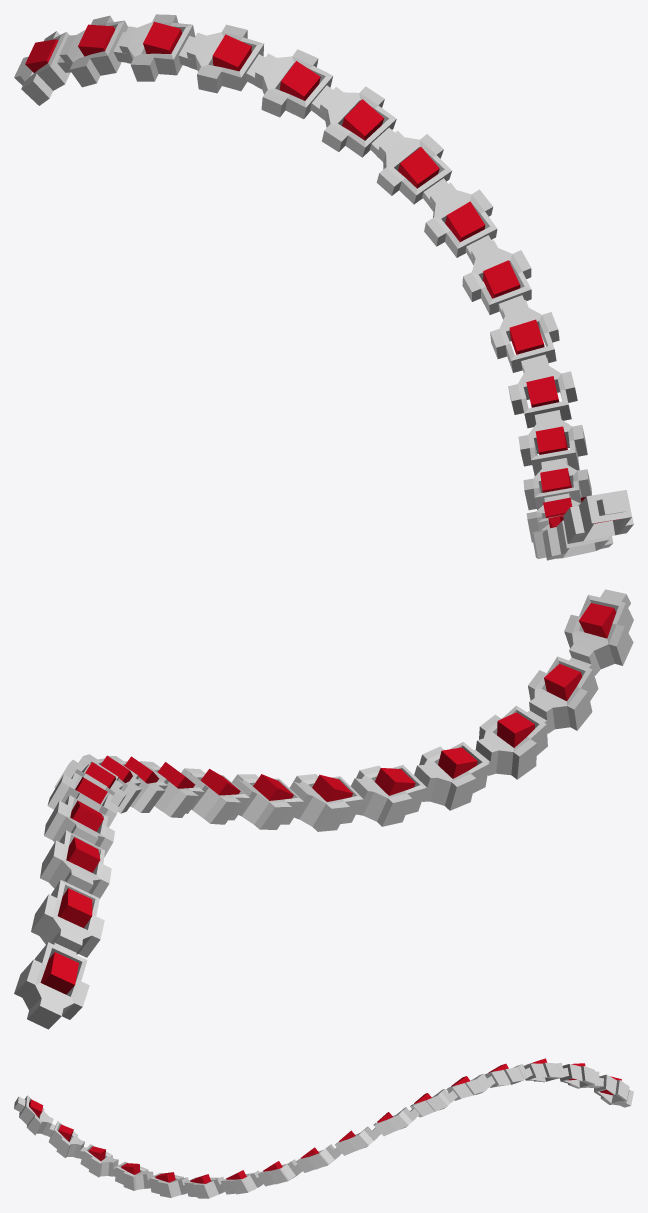
The model's file is Clock.fbx.
3 renders of one model, top to bottom at view 1: azimuth 30°, elevation 25°; view 2: azimuth 150°, elevation 25°; view 3: azimuth 270°, elevation 25°, orthographic. The views are drawn at different scales.
Parts seen in each view (by area): view 1: ClockObject; view 2: ClockObject; view 3: ClockObject.
Part boxes in pixels (left/top/right/bottom): ClockObject: left=14, top=14, right=633, bottom=560; ClockObject: left=14, top=589, right=633, bottom=1029; ClockObject: left=14, top=1058, right=633, bottom=1198.
Bounding box in the file's own units: 925 × 944 × 4117.
